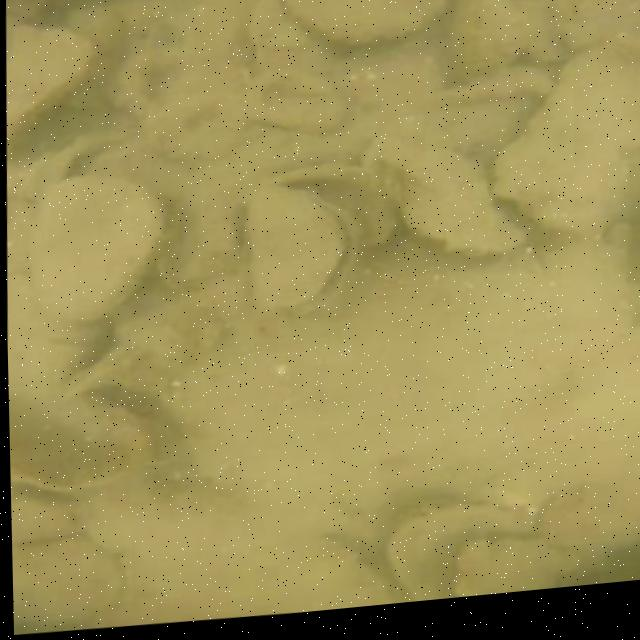Oyster-Indeterminate: (493, 37, 636, 227), (29, 176, 162, 322), (363, 140, 523, 253), (12, 536, 123, 627), (6, 25, 93, 125), (284, 0, 450, 44), (540, 485, 640, 553), (250, 0, 338, 77), (446, 0, 526, 75), (458, 533, 557, 592), (313, 546, 386, 607), (11, 498, 76, 544)
Oyster-Open: (243, 191, 353, 312), (62, 374, 182, 462)
